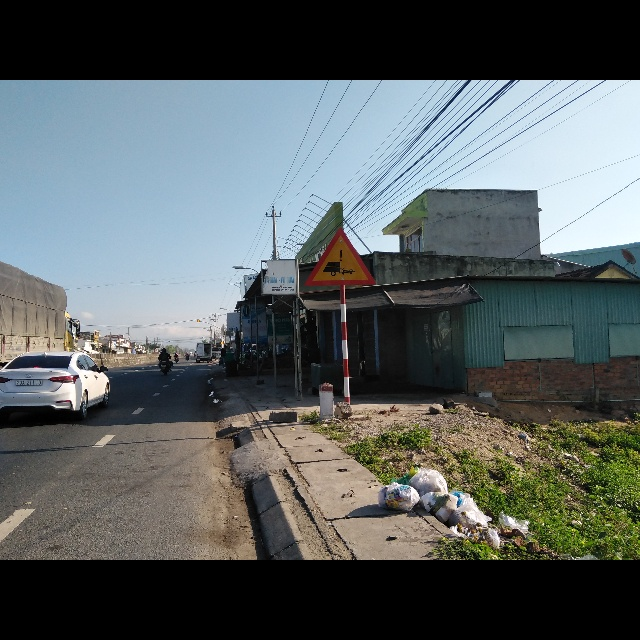Đoạn đường hay xảy ra tai nạn: (304, 224, 377, 287)
